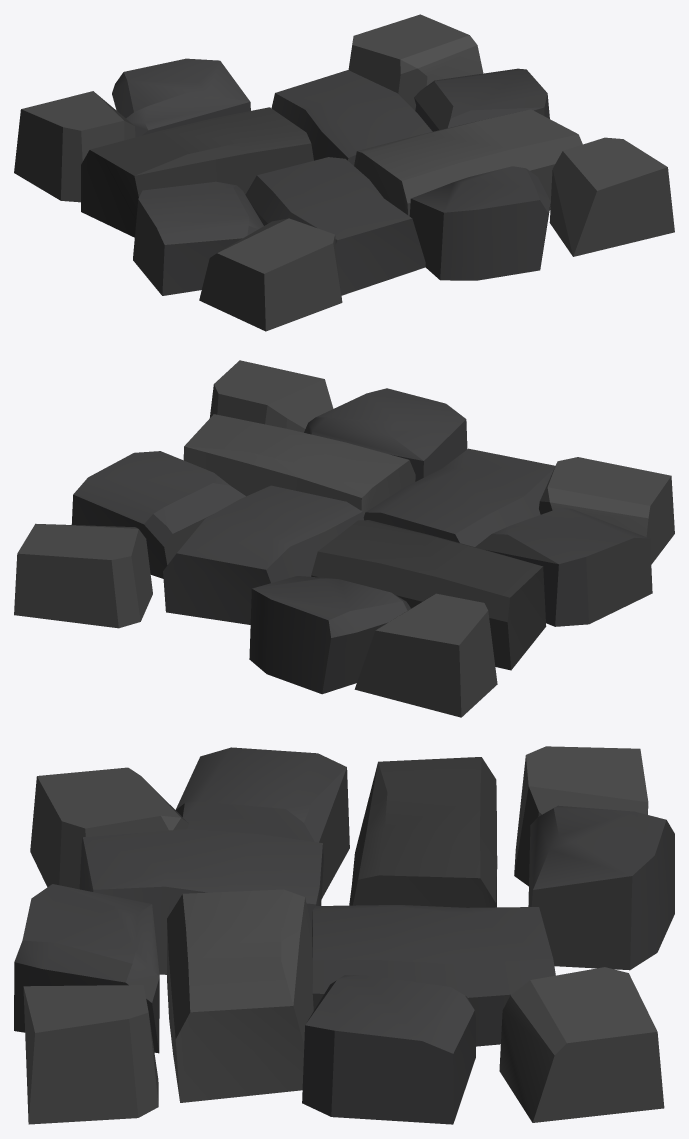
File: ea01_env_road_cobble_02a_pre_19_lev1.glb
3 renders of one model, top to bottom at view 1: azimuth 30°, elevation 25°; view 2: azimuth 150°, elevation 25°; view 3: azimuth 270°, elevation 25°, orthographic. The views are drawn at different scales.
Visible parts, largest first — view 1: ea01_env_road_cobble_02a_pre_19_lev1; view 2: ea01_env_road_cobble_02a_pre_19_lev1; view 3: ea01_env_road_cobble_02a_pre_19_lev1.
Part boxes in pixels (x1,y1,x2,y2): ea01_env_road_cobble_02a_pre_19_lev1: (14,14,674,331); ea01_env_road_cobble_02a_pre_19_lev1: (14,360,674,717); ea01_env_road_cobble_02a_pre_19_lev1: (14,746,674,1124).
Bounding box in the file's own units: 2.44 × 0.3708 × 2.27.
1 material, 1 textured.
